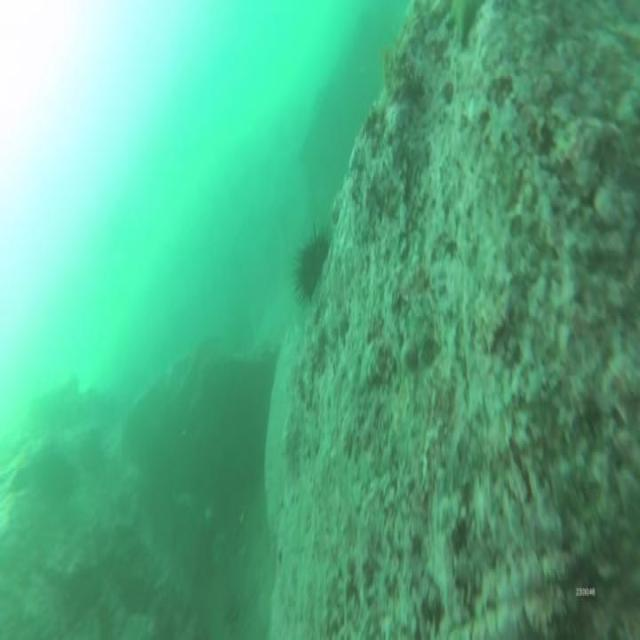echinus: (296, 237, 328, 292)
